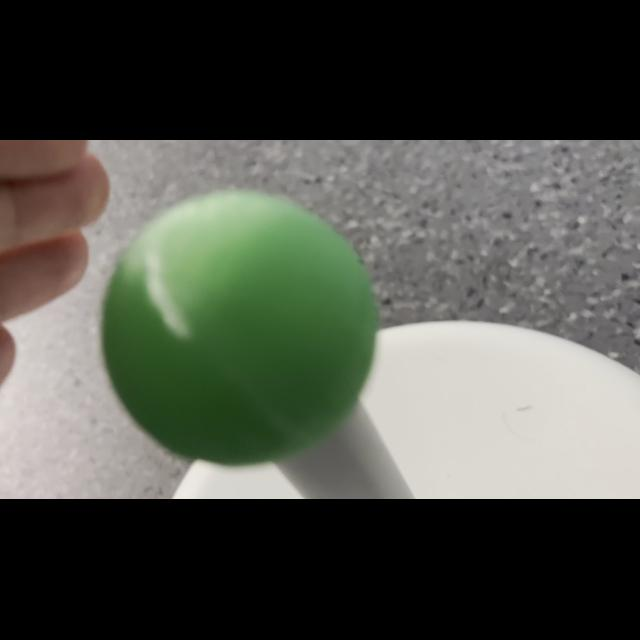objects: (90, 173, 386, 471)
